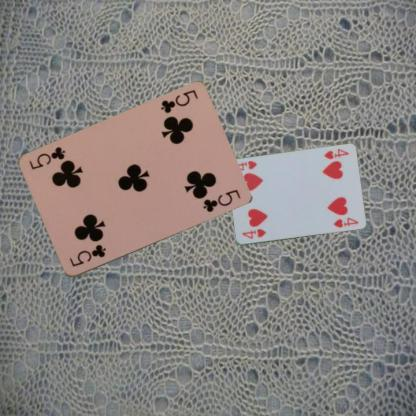4h: (239, 226, 268, 240), (322, 146, 349, 161)
5c: (158, 87, 199, 115), (66, 242, 108, 269)
